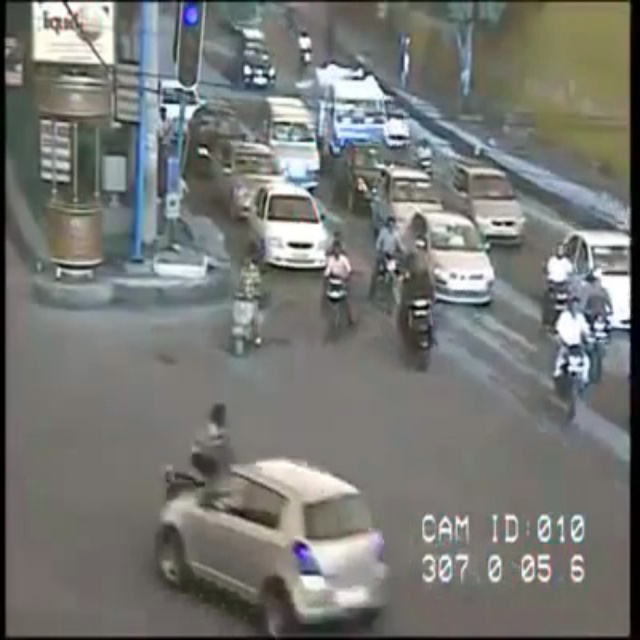acc: (138, 394, 384, 626)
